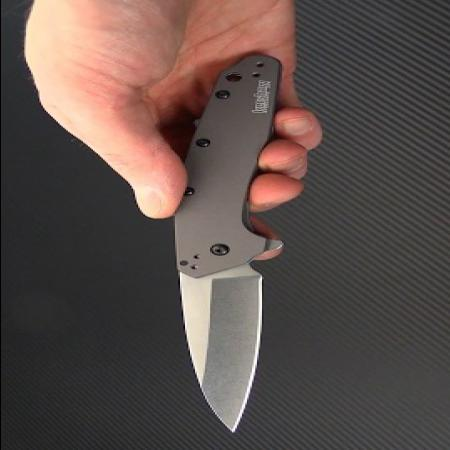long weapon: (158, 49, 326, 441)
